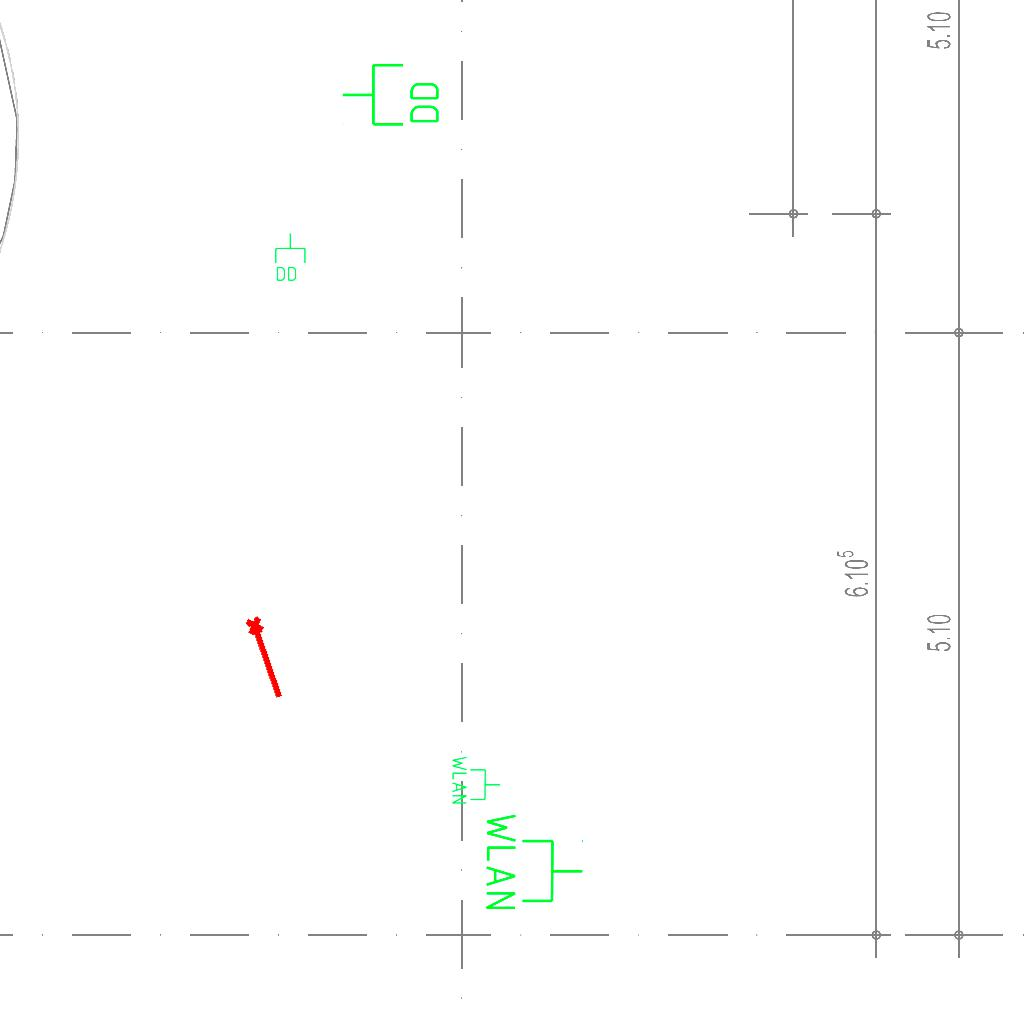ASR_Ansaugoeffnung: (241, 612, 293, 703)
Datenanschluss_zweifach: (340, 61, 443, 130), (273, 232, 307, 283)
WLAN: (482, 809, 586, 914), (450, 754, 502, 806)
